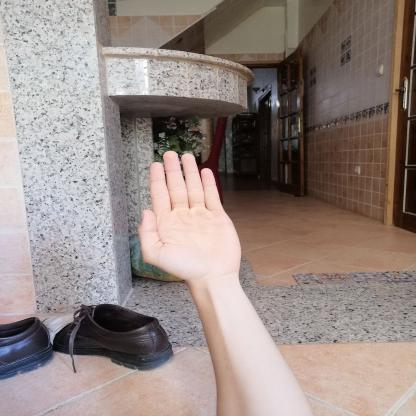SEEN: (129, 143, 249, 289)
